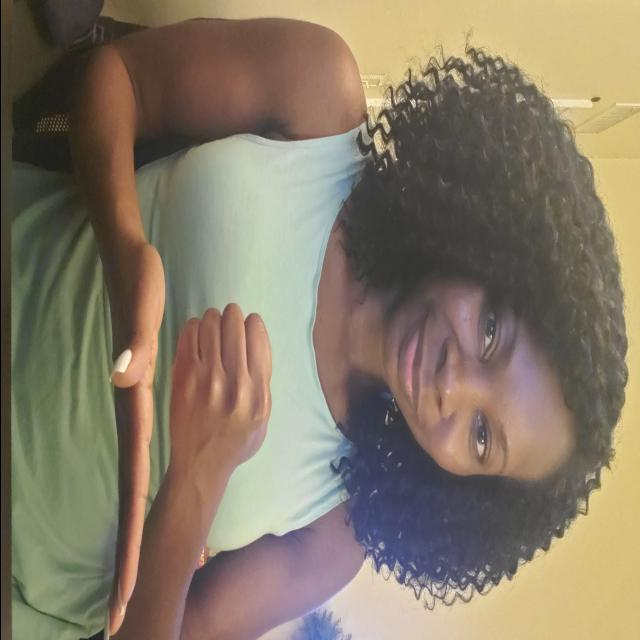Rock: (161, 296, 281, 494)
